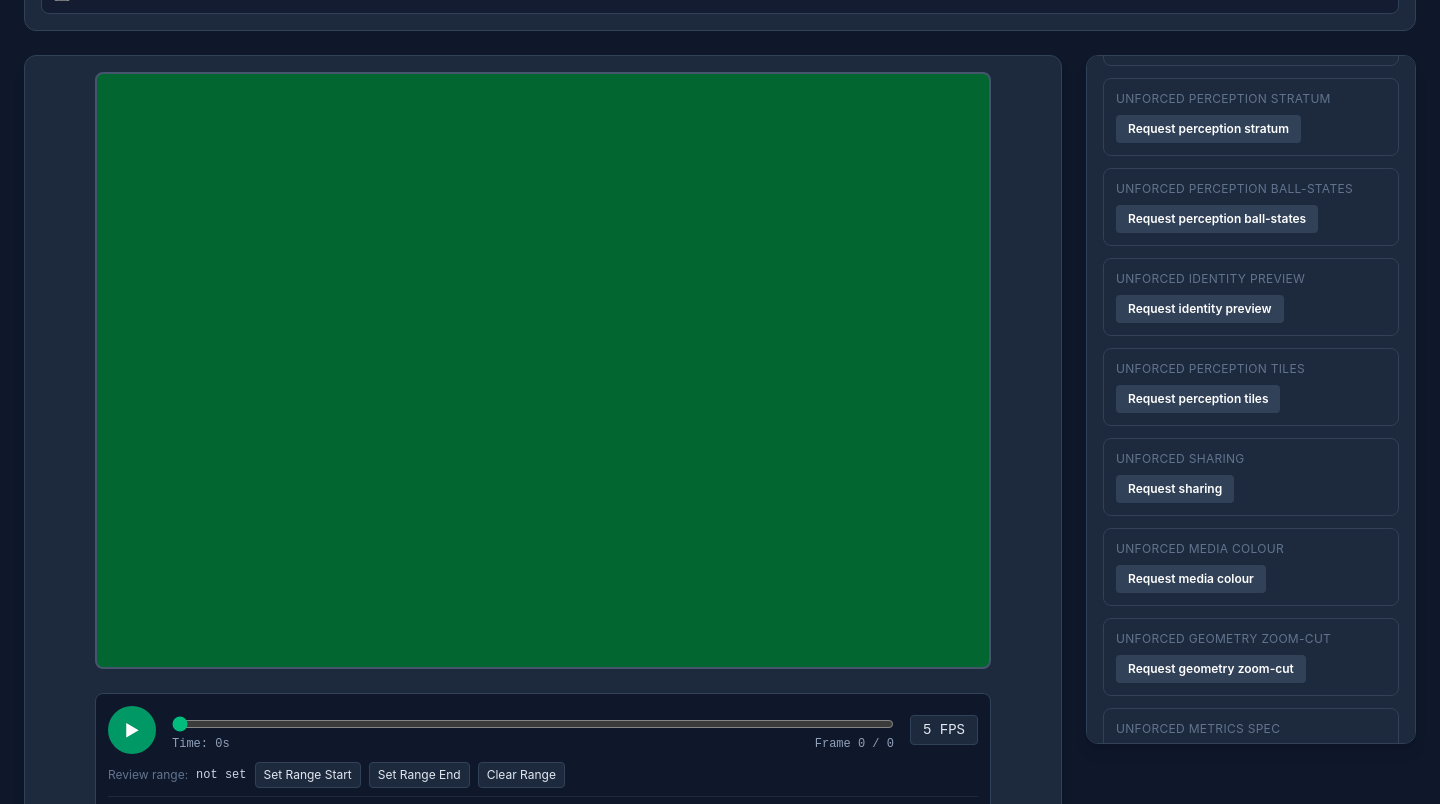
Test: App leftover HTTP surfaces › posts perception tiles, sharing, and media colour without leftover productQualityPass, expired false, or convert false
The image size is (1440, 804).
(page scrolled)
Click the button "Request perception tiles" at (1198, 399), box [1116,385,1280,413]
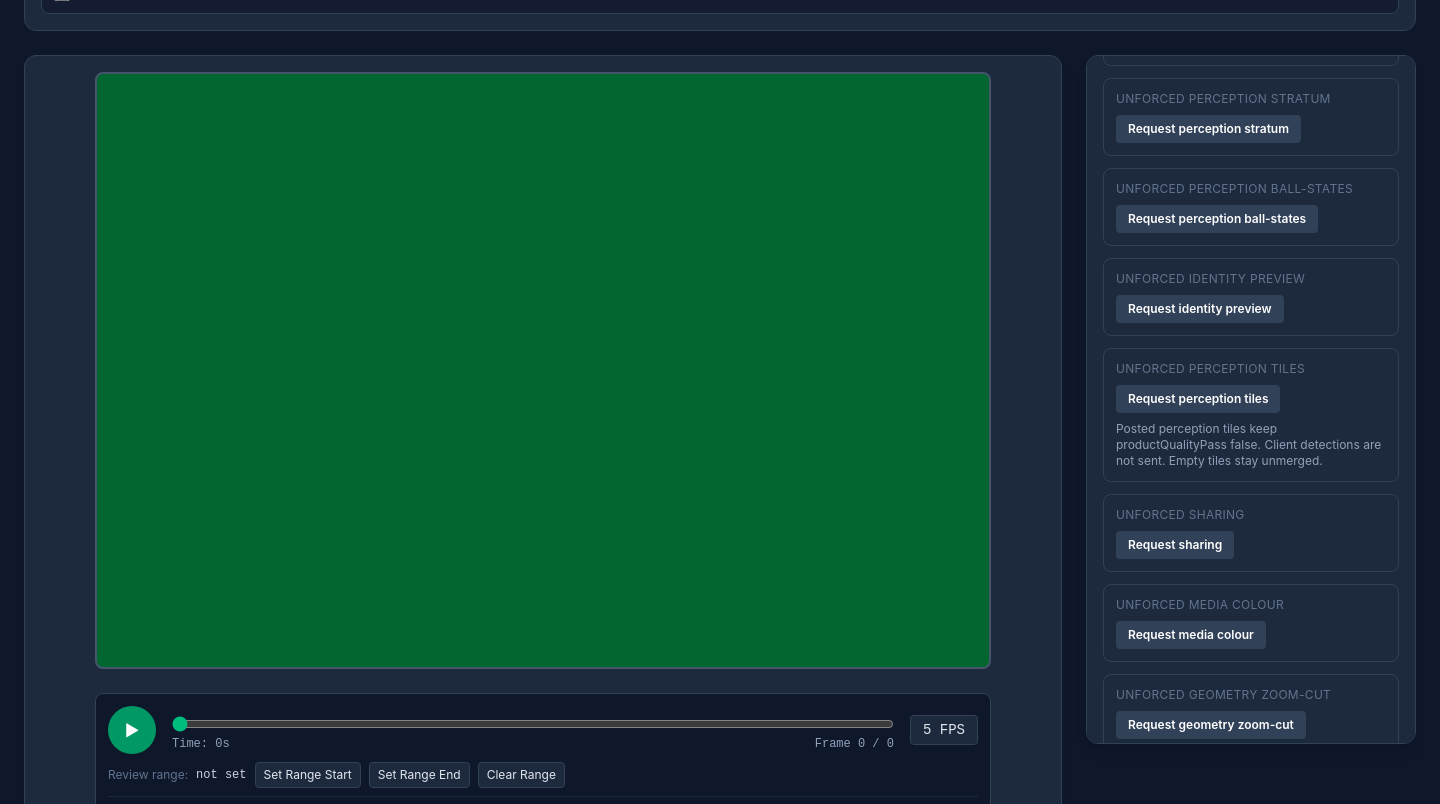
Click the button "Request sharing" at (1175, 545), box [1116,531,1234,559]
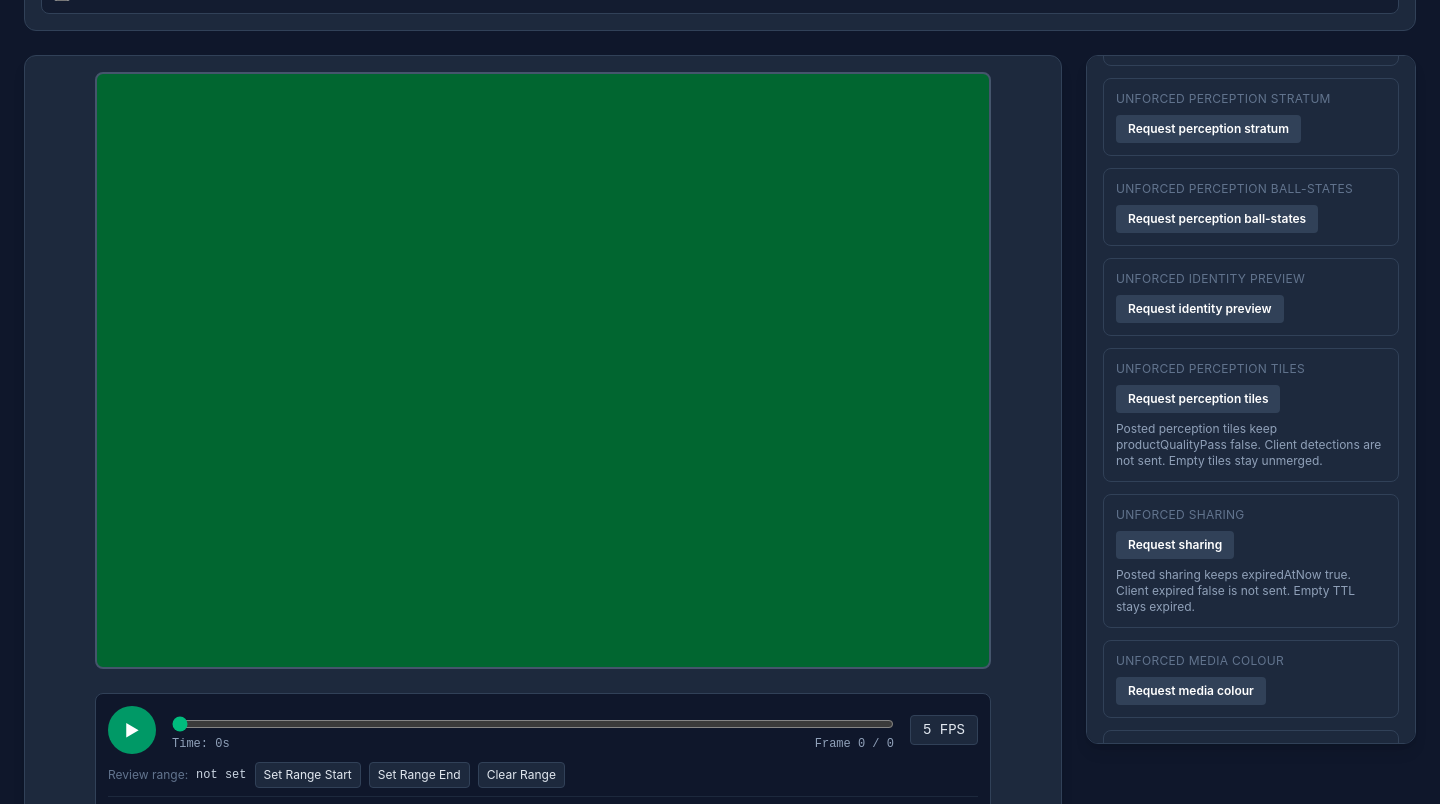
Click the button "Request media colour" at (1191, 691), box [1116,677,1266,705]
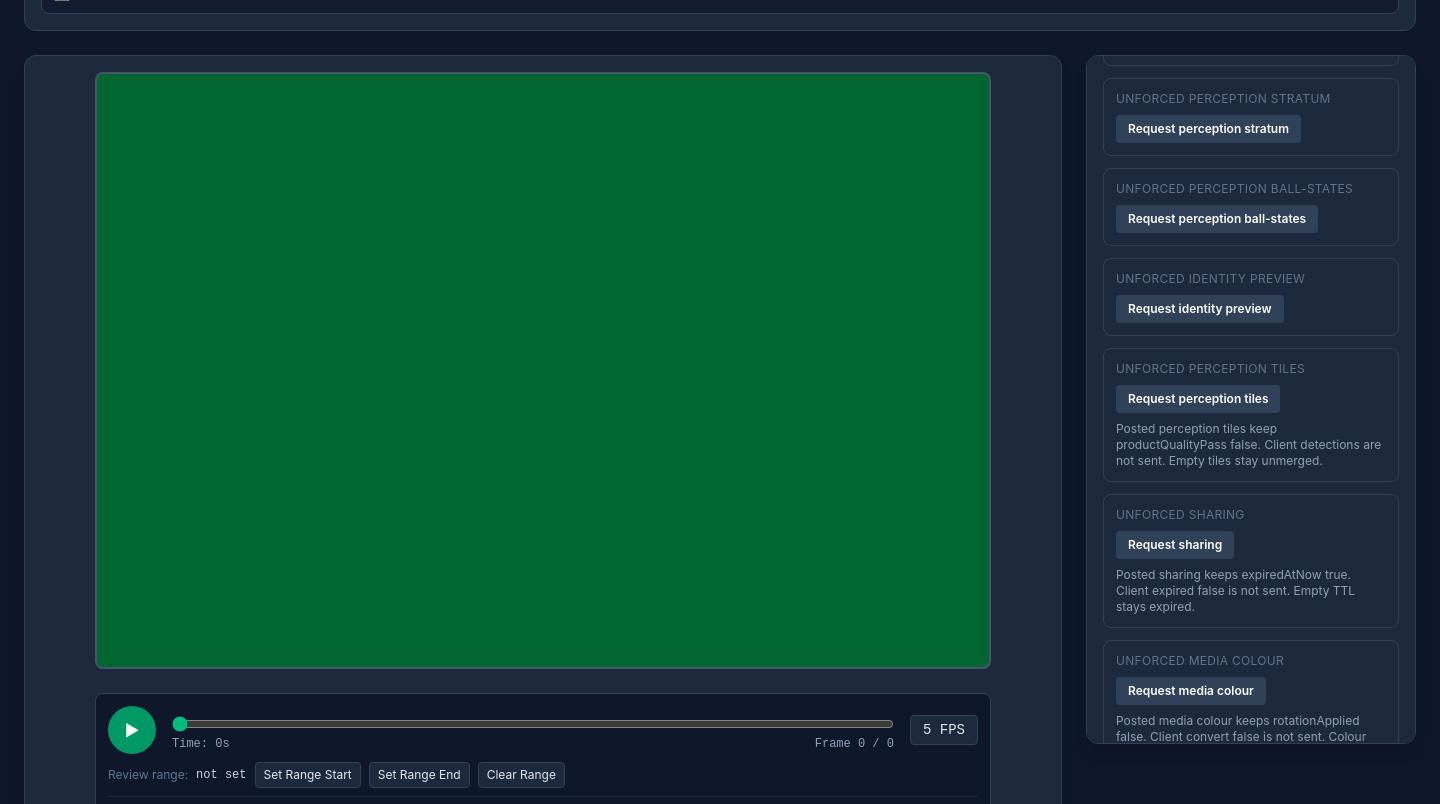
Now the text "empty tiles stay unmerged" is shown, box [1116,421,1381,468]
Now the text "empty TTL stays expired" is shown, box [1116,567,1355,614]
Now the text "colour round-trip stays bgr" is shown, box [1116,713,1366,744]
